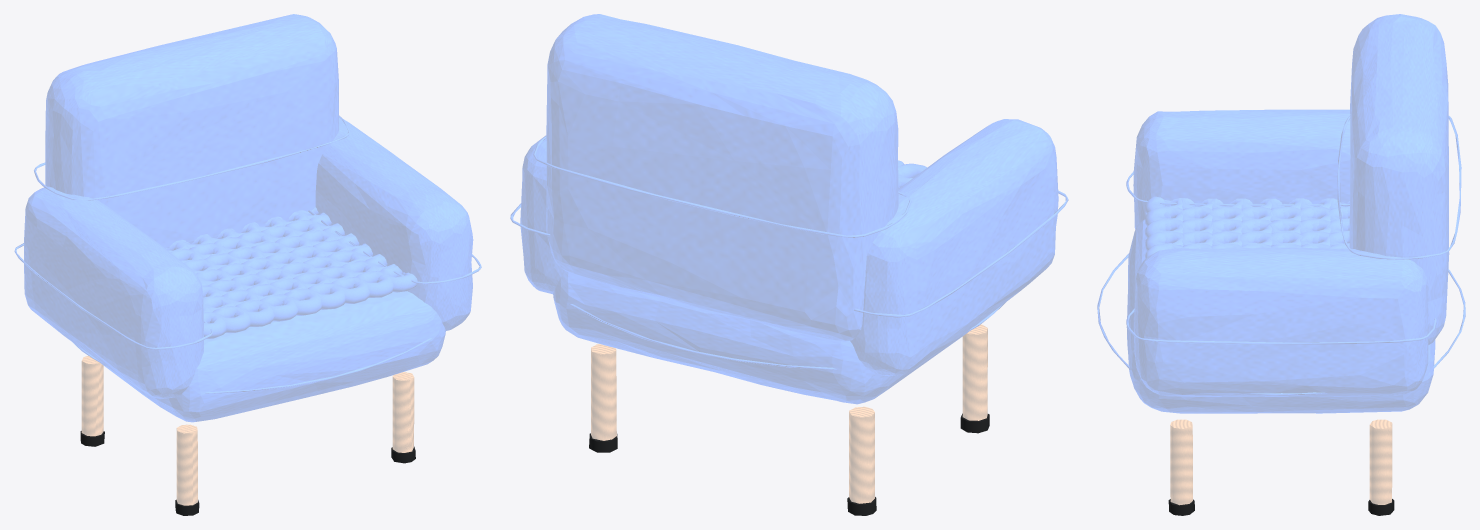
File: ref04_08.glb
3 renders of one model, left to right at view 1: azimuth 30°, elevation 25°; view 2: azimuth 150°, elevation 25°; view 3: azimuth 270°, elevation 25°, orthographic. The views are drawn at different scales.
Visible parts, largest first — view 1: ref04_08; view 2: ref04_08; view 3: ref04_08.
Boxes of the visible parts, x1=… form: ref04_08: x1=14, y1=14, x2=481, y2=515; ref04_08: x1=510, y1=14, x2=1068, y2=515; ref04_08: x1=1097, y1=14, x2=1465, y2=515.
Size of the model in its own units: 0.9464 by 0.9339 by 0.8123.
3 materials, 2 textured.
